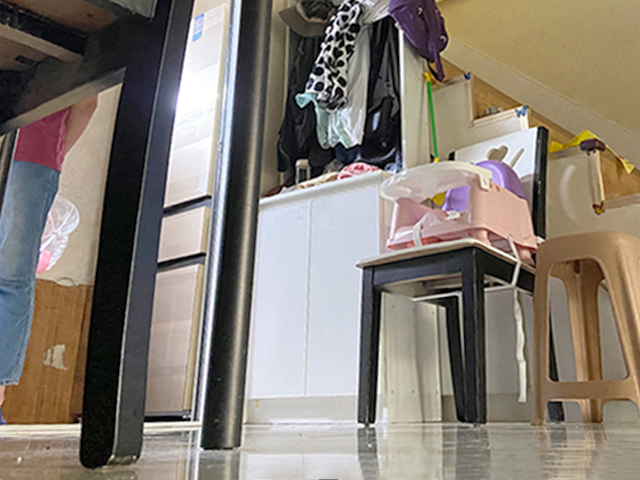cabinet: (243, 165, 429, 422)
stool: (354, 124, 564, 425), (532, 229, 640, 425)
